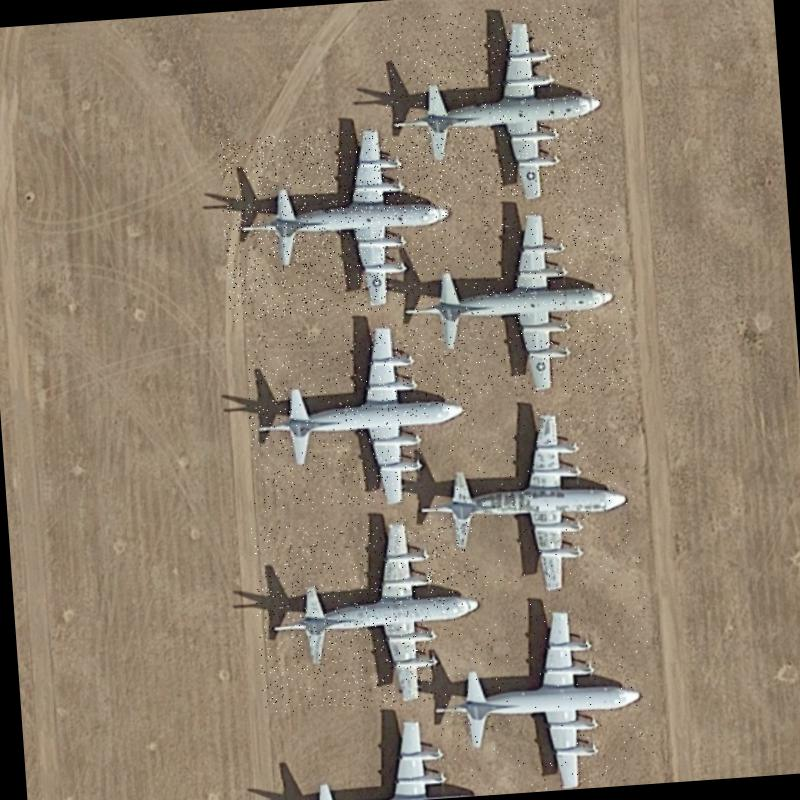A9: (390, 204, 631, 404), (217, 124, 458, 322), (250, 512, 486, 714), (408, 403, 644, 603), (378, 1, 606, 205), (428, 595, 658, 797), (242, 318, 477, 512)
